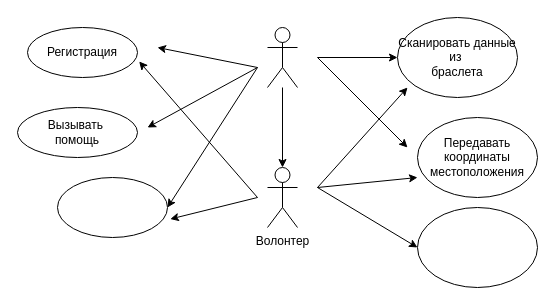
The diagram is 555 pixels wide and 305 high, and some of its shapes have lost their labels. The centre of each missing label's shape, as x and y in pixels:
Включить/ Отключить режим волонтера: [477,247]
Пользователь: [282,57]
Создавать браслет: [112,207]
